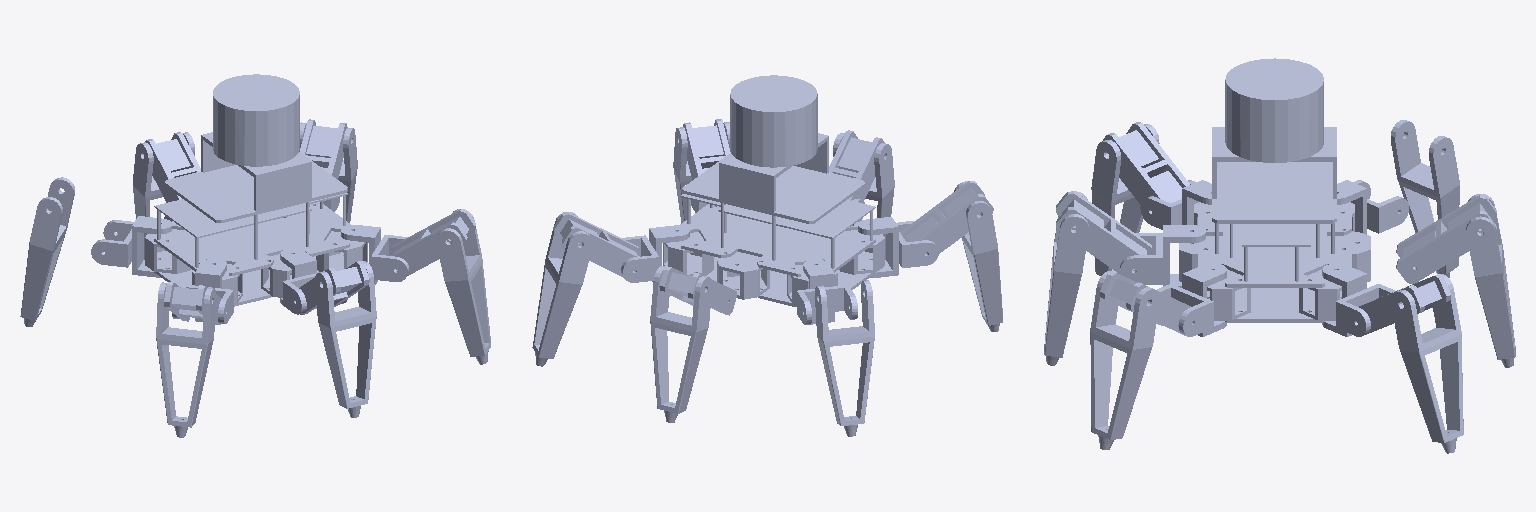
--- Facts derived from the render (not from the file) ---
The picture shows the robot from 3 angles, left to right: view 1: azimuth 30°, elevation 25°; view 2: azimuth 150°, elevation 25°; view 3: azimuth 270°, elevation 25°; orthographic projection.
Model hexa_last_ver_i_swear with 19 links and 18 joints (18 revolute), rooted at base_link, posed every joint at zero.
Links seen in each view (by area): view 1: base_link, tibia_3, tibia_1, tibia_6, tibia_5, coxa_6, femur_1, coxa_1, femur_4, femur_2, tibia_4, coxa_3 (+4 smaller); view 2: base_link, tibia_4, tibia_2, tibia_6, tibia_5, femur_5, coxa_5, coxa_6, femur_2, coxa_2, femur_3, femur_1 (+3 smaller); view 3: base_link, tibia_2, tibia_1, tibia_6, tibia_4, tibia_3, femur_4, femur_5, femur_3, tibia_5, coxa_2, coxa_1 (+5 smaller).
Link boxes in pixels (x1,y1,x2,y2): base_link: (145, 74, 367, 306); tibia_3: (315, 261, 376, 417); tibia_1: (436, 209, 490, 364); tibia_6: (20, 177, 74, 326); tibia_5: (156, 282, 215, 437); coxa_6: (91, 216, 171, 277); femur_1: (390, 209, 475, 275); coxa_1: (341, 225, 408, 284); femur_4: (145, 132, 200, 202); femur_2: (300, 119, 347, 179); tibia_4: (133, 132, 194, 259); coxa_3: (280, 248, 347, 314); base_link: (663, 75, 884, 306); tibia_4: (650, 266, 712, 422); tibia_2: (532, 212, 592, 366); tibia_6: (815, 280, 874, 436); tibia_5: (954, 181, 1002, 331); femur_5: (900, 181, 993, 253); coxa_5: (858, 217, 938, 277); coxa_6: (797, 259, 857, 324); femur_2: (553, 212, 640, 277); coxa_2: (621, 225, 689, 282); femur_3: (829, 130, 884, 200); femur_1: (683, 119, 730, 180); base_link: (1179, 58, 1370, 322); tibia_2: (1391, 274, 1463, 453); tibia_1: (1090, 271, 1159, 449); tibia_6: (1391, 120, 1459, 277); tibia_4: (1466, 194, 1515, 367); tibia_3: (1044, 191, 1088, 365); femur_4: (1396, 195, 1496, 283); femur_5: (1102, 122, 1189, 204); femur_3: (1056, 191, 1152, 273); tibia_5: (1091, 124, 1159, 275); coxa_2: (1322, 263, 1394, 336); coxa_1: (1157, 263, 1226, 336).
Bounding box of the posed robot: 0.4492 × 0.4892 × 0.3304 m (x, y, z).
17 mesh visuals loaded from 19 distinct referenced files (17 binary STL); not drawn: 2 (reference not matched to a file when rendering).

URDF robot description (hexa_last_ver_i_swear):
<?xml version="1.0" encoding="utf-8"?>
<!-- This URDF was automatically created by SolidWorks to URDF Exporter! Originally created by Stephen Brawner ([email redacted]) 
     Commit Version: 1.6.0-4-g7f85cfe  Build Version: 1.6.7995.38578
     For more information, please see http://wiki.ros.org/sw_urdf_exporter -->
<robot
  name="hexa_last_ver_i_swear">
  <link
    name="base_link">
    <inertial>
      <origin
        xyz="-0.000235954357342192 7.5432764818938E-06 0.1227178717292"
        rpy="0 0 0" />
      <mass
        value="1.21169978454244" />
      <inertia
        ixx="0.00915831944870311"
        ixy="-7.1052111963795E-07"
        ixz="-8.84150170670575E-06"
        iyy="0.00979644782668003"
        iyz="1.97028180144623E-07"
        izz="0.00428132557153675" />
    </inertial>
    <visual>
      <origin
        xyz="0 0 0"
        rpy="0 0 0" />
      <geometry>
        <mesh
          filename="package://hexa_last_ver_i_swear/meshes/base_link.STL" />
      </geometry>
      <material
        name="">
        <color
          rgba="0.792156862745098 0.819607843137255 0.929411764705882 1" />
      </material>
    </visual>
    <collision>
      <origin
        xyz="0 0 0"
        rpy="0 0 0" />
      <geometry>
        <mesh
          filename="package://hexa_last_ver_i_swear/meshes/base_link.STL" />
      </geometry>
    </collision>
  </link>
  <link
    name="coxa_1">
    <inertial>
      <origin
        xyz="0.0299971745393872 2.63709657195854E-06 0.022"
        rpy="0 0 0" />
      <mass
        value="0.0551210467328803" />
      <inertia
        ixx="3.53282132522675E-05"
        ixy="-4.36119640905399E-09"
        ixz="-1.55271915250144E-21"
        iyy="3.83050011945573E-05"
        iyz="-2.05291309065013E-21"
        izz="3.83009260758547E-05" />
    </inertial>
    <visual>
      <origin
        xyz="0 0 0"
        rpy="0 0 0" />
      <geometry>
        <mesh
          filename="package://hexa_last_ver_i_swear/meshes/coxa_1.STL" />
      </geometry>
      <material
        name="">
        <color
          rgba="0.792156862745098 0.819607843137255 0.933333333333333 1" />
      </material>
    </visual>
    <collision>
      <origin
        xyz="0 0 0"
        rpy="0 0 0" />
      <geometry>
        <mesh
          filename="package://hexa_last_ver_i_swear/meshes/coxa_1.STL" />
      </geometry>
    </collision>
  </link>
  <joint
    name="coxa_1_joint"
    type="revolute">
    <origin
      xyz="0.094347 -0.064347 0"
      rpy="0 0 -0.7854" />
    <parent
      link="base_link" />
    <child
      link="coxa_1" />
    <axis
      xyz="0 0 1" />
    <limit
      lower="0"
      upper="0"
      effort="0"
      velocity="0" />
  </joint>
  <link
    name="femur_1">
    <inertial>
      <origin
        xyz="0.0390038961416134 2.77555756156289E-17 -0.000127300882164495"
        rpy="0 0 0" />
      <mass
        value="0.101060221285622" />
      <inertia
        ixx="2.70779732387671E-05"
        ixy="-8.89384594617015E-20"
        ixz="7.62790212769359E-09"
        iyy="0.000113343849974385"
        iyz="1.97805872036324E-20"
        izz="9.72264920104687E-05" />
    </inertial>
    <visual>
      <origin
        xyz="0 0 0"
        rpy="0 0 0" />
      <geometry>
        <mesh
          filename="package://hexa_last_ver_i_swear/meshes/femur_1.STL" />
      </geometry>
      <material
        name="">
        <color
          rgba="0.792156862745098 0.819607843137255 0.933333333333333 1" />
      </material>
    </visual>
    <collision>
      <origin
        xyz="0 0 0"
        rpy="0 0 0" />
      <geometry>
        <mesh
          filename="package://hexa_last_ver_i_swear/meshes/femur_1.STL" />
      </geometry>
    </collision>
  </link>
  <joint
    name="femur_1_joint"
    type="revolute">
    <origin
      xyz="0.06 0 0.022"
      rpy="1.5708 -0.60765 0" />
    <parent
      link="coxa_1" />
    <child
      link="femur_1" />
    <axis
      xyz="0 0 1" />
    <limit
      lower="0"
      upper="0"
      effort="0"
      velocity="0" />
  </joint>
  <link
    name="tibia_1">
    <inertial>
      <origin
        xyz="0.0647793877370392 1.67357076114039E-07 4.11404578147534E-08"
        rpy="0 0 0" />
      <mass
        value="0.079753578257712" />
      <inertia
        ixx="4.29473134297159E-05"
        ixy="-5.47973506953978E-10"
        ixz="1.27952682207062E-10"
        iyy="0.000201360752347867"
        iyz="-5.78595613011558E-11"
        izz="0.000168424442883887" />
    </inertial>
    <visual>
      <origin
        xyz="0 0 0"
        rpy="0 0 0" />
      <geometry>
        <mesh
          filename="package://hexa_last_ver_i_swear/meshes/tibia_1.STL" />
      </geometry>
      <material
        name="">
        <color
          rgba="0.792156862745098 0.819607843137255 0.933333333333333 1" />
      </material>
    </visual>
    <collision>
      <origin
        xyz="0 0 0"
        rpy="0 0 0" />
      <geometry>
        <mesh
          filename="package://hexa_last_ver_i_swear/meshes/tibia_1.STL" />
      </geometry>
    </collision>
  </link>
  <joint
    name="tibia_1_joint"
    type="revolute">
    <origin
      xyz="0.078299 0 0"
      rpy="0 0 -1.9765" />
    <parent
      link="femur_1" />
    <child
      link="tibia_1" />
    <axis
      xyz="0 0 1" />
    <limit
      lower="0"
      upper="0"
      effort="0"
      velocity="0" />
  </joint>
  <link
    name="coxa_3">
    <inertial>
      <origin
        xyz="0.0299971745393872 2.63709657192536E-06 0.022"
        rpy="0 0 0" />
      <mass
        value="0.0551210467328803" />
      <inertia
        ixx="3.53282132522675E-05"
        ixy="-4.36119640902418E-09"
        ixz="3.90477967527937E-22"
        iyy="3.83050011945573E-05"
        iyz="1.21828494571067E-22"
        izz="3.83009260758546E-05" />
    </inertial>
    <visual>
      <origin
        xyz="0 0 0"
        rpy="0 0 0" />
      <geometry>
        <mesh
          filename="package://hexa_last_ver_i_swear/meshes/coxa_3.STL" />
      </geometry>
      <material
        name="">
        <color
          rgba="0.792156862745098 0.819607843137255 0.933333333333333 1" />
      </material>
    </visual>
    <collision>
      <origin
        xyz="0 0 0"
        rpy="0 0 0" />
      <geometry>
        <mesh
          filename="package://hexa_last_ver_i_swear/meshes/coxa_3.STL" />
      </geometry>
    </collision>
  </link>
  <joint
    name="coxa_3_joint"
    type="revolute">
    <origin
      xyz="0 -0.086 0"
      rpy="0 0 -1.5708" />
    <parent
      link="base_link" />
    <child
      link="coxa_3" />
    <axis
      xyz="0 0 1" />
    <limit
      lower="0"
      upper="0"
      effort="0"
      velocity="0" />
  </joint>
  <link
    name="femur_3">
    <inertial>
      <origin
        xyz="-0.0389961038583868 2.77555756156289E-16 -0.000127300882164621"
        rpy="0 0 0" />
      <mass
        value="0.101060221285622" />
      <inertia
        ixx="2.70779732387671E-05"
        ixy="-5.33630756770209E-20"
        ixz="7.62790212764186E-09"
        iyy="0.000113343849974385"
        iyz="-2.58075379411868E-21"
        izz="9.72264920104688E-05" />
    </inertial>
    <visual>
      <origin
        xyz="0 0 0"
        rpy="0 0 0" />
      <geometry>
        <mesh
          filename="package://hexa_last_ver_i_swear/meshes/femur_3.STL" />
      </geometry>
      <material
        name="">
        <color
          rgba="0.792156862745098 0.819607843137255 0.933333333333333 1" />
      </material>
    </visual>
    <collision>
      <origin
        xyz="0 0 0"
        rpy="0 0 0" />
      <geometry>
        <mesh
          filename="package://hexa_last_ver_i_swear/meshes/femur_3.STL" />
      </geometry>
    </collision>
  </link>
  <joint
    name="femur_3_joint"
    type="revolute">
    <origin
      xyz="0.06 0 0.022"
      rpy="1.5708 0.65437 -3.1416" />
    <parent
      link="coxa_3" />
    <child
      link="femur_3" />
    <axis
      xyz="0 0 1" />
    <limit
      lower="0"
      upper="0"
      effort="0"
      velocity="0" />
  </joint>
  <link
    name="tibia_3">
    <inertial>
      <origin
        xyz="0.0647793402516186 1.63043285095199E-07 0.000500038719800596"
        rpy="0 0 0" />
      <mass
        value="0.0797534321360177" />
      <inertia
        ixx="4.29472906774755E-05"
        ixy="-4.35624446704931E-10"
        ixz="1.25207647799621E-10"
        iyy="0.000201360533986022"
        iyz="-6.29881027864269E-11"
        izz="0.000168424318950458" />
    </inertial>
    <visual>
      <origin
        xyz="0 0 0"
        rpy="0 0 0" />
      <geometry>
        <mesh
          filename="package://hexa_last_ver_i_swear/meshes/tibia_3.STL" />
      </geometry>
      <material
        name="">
        <color
          rgba="0.792156862745098 0.819607843137255 0.933333333333333 1" />
      </material>
    </visual>
    <collision>
      <origin
        xyz="0 0 0"
        rpy="0 0 0" />
      <geometry>
        <mesh
          filename="package://hexa_last_ver_i_swear/meshes/tibia_3.STL" />
      </geometry>
    </collision>
  </link>
  <joint
    name="tibia_3_joint"
    type="revolute">
    <origin
      xyz="-0.078 0 0"
      rpy="3.1416 0 -1.0584" />
    <parent
      link="femur_3" />
    <child
      link="tibia_3" />
    <axis
      xyz="0 0 1" />
    <limit
      lower="0"
      upper="0"
      effort="0"
      velocity="0" />
  </joint>
  <link
    name="coxa_5">
    <inertial>
      <origin
        xyz="0.0299971745393872 2.63709657191691E-06 0.022"
        rpy="0 0 0" />
      <mass
        value="0.0551210467328803" />
      <inertia
        ixx="3.53282132522675E-05"
        ixy="-4.36119640903196E-09"
        ixz="9.49349879329603E-22"
        iyy="3.83050011945573E-05"
        iyz="-2.09182526603576E-21"
        izz="3.83009260758547E-05" />
    </inertial>
    <visual>
      <origin
        xyz="0 0 0"
        rpy="0 0 0" />
      <geometry>
        <mesh
          filename="package://hexa_last_ver_i_swear/meshes/coxa_5.STL" />
      </geometry>
      <material
        name="">
        <color
          rgba="0.792156862745098 0.819607843137255 0.933333333333333 1" />
      </material>
    </visual>
    <collision>
      <origin
        xyz="0 0 0"
        rpy="0 0 0" />
      <geometry>
        <mesh
          filename="package://hexa_last_ver_i_swear/meshes/coxa_5.STL" />
      </geometry>
    </collision>
  </link>
  <joint
    name="coxa_5_joint"
    type="revolute">
    <origin
      xyz="-0.094347 -0.064347 0"
      rpy="0 0 -2.3562" />
    <parent
      link="base_link" />
    <child
      link="coxa_5" />
    <axis
      xyz="0 0 1" />
    <limit
      lower="0"
      upper="0"
      effort="0"
      velocity="0" />
  </joint>
  <link
    name="femur_5">
    <inertial>
      <origin
        xyz="-0.0389961038583868 2.63677968348475E-16 0.000372699117835631"
        rpy="0 0 0" />
      <mass
        value="0.101060221285622" />
      <inertia
        ixx="2.70779732387672E-05"
        ixy="-3.89635155736978E-20"
        ixz="7.62790212769673E-09"
        iyy="0.000113343849974385"
        iyz="-1.00933501008031E-20"
        izz="9.72264920104688E-05" />
    </inertial>
    <visual>
      <origin
        xyz="0 0 0"
        rpy="0 0 0" />
      <geometry>
        <mesh
          filename="package://hexa_last_ver_i_swear/meshes/femur_5.STL" />
      </geometry>
      <material
        name="">
        <color
          rgba="0.792156862745098 0.819607843137255 0.933333333333333 1" />
      </material>
    </visual>
    <collision>
      <origin
        xyz="0 0 0"
        rpy="0 0 0" />
      <geometry>
        <mesh
          filename="package://hexa_last_ver_i_swear/meshes/femur_5.STL" />
      </geometry>
    </collision>
  </link>
  <joint
    name="femur_5_joint"
    type="revolute">
    <origin
      xyz="0.06 0 0.022"
      rpy="1.5708 0.59326 -3.1416" />
    <parent
      link="coxa_5" />
    <child
      link="femur_5" />
    <axis
      xyz="0 0 1" />
    <limit
      lower="0"
      upper="0"
      effort="0"
      velocity="0" />
  </joint>
  <link
    name="tibia_5">
    <inertial>
      <origin
        xyz="0.064779381457328 1.66896180764375E-07 3.80265846762484E-08"
        rpy="0 0 0" />
      <mass
        value="0.0797535514364952" />
      <inertia
        ixx="4.29473122557609E-05"
        ixy="-5.2039318251951E-10"
        ixz="1.2934666126771E-10"
        iyy="0.000201360728465127"
        iyz="-5.89853202898421E-11"
        izz="0.000168424442624692" />
    </inertial>
    <visual>
      <origin
        xyz="0 0 0"
        rpy="0 0 0" />
      <geometry>
        <mesh
          filename="package://hexa_last_ver_i_swear/meshes/tibia_5.STL" />
      </geometry>
      <material
        name="">
        <color
          rgba="0.792156862745098 0.819607843137255 0.933333333333333 1" />
      </material>
    </visual>
    <collision>
      <origin
        xyz="0 0 0"
        rpy="0 0 0" />
      <geometry>
        <mesh
          filename="package://hexa_last_ver_i_swear/meshes/tibia_5.STL" />
      </geometry>
    </collision>
  </link>
  <joint
    name="tibia_5_joint"
    type="revolute">
    <origin
      xyz="-0.078 0 0"
      rpy="-3.1416 0 -1.1353" />
    <parent
      link="femur_5" />
    <child
      link="tibia_5" />
    <axis
      xyz="0 0 1" />
    <limit
      lower="0"
      upper="0"
      effort="0"
      velocity="0" />
  </joint>
  <link
    name="coxa_2">
    <inertial>
      <origin
        xyz="0.0299971745393872 2.63709657193772E-06 0.022"
        rpy="0 0 0" />
      <mass
        value="0.0551210467328803" />
      <inertia
        ixx="3.53282132522675E-05"
        ixy="-4.3611964090218E-09"
        ixz="8.81059334345057E-21"
        iyy="3.83050011945573E-05"
        iyz="-4.92950676674719E-21"
        izz="3.83009260758546E-05" />
    </inertial>
    <visual>
      <origin
        xyz="0 0 0"
        rpy="0 0 0" />
      <geometry>
        <mesh
          filename="package://hexa_last_ver_i_swear/meshes/coxa_2.STL" />
      </geometry>
      <material
        name="">
        <color
          rgba="0.792156862745098 0.819607843137255 0.933333333333333 1" />
      </material>
    </visual>
    <collision>
      <origin
        xyz="0 0 0"
        rpy="0 0 0" />
      <geometry>
        <mesh
          filename="package://hexa_last_ver_i_swear/meshes/coxa_2.STL" />
      </geometry>
    </collision>
  </link>
  <joint
    name="coxa_2_joint"
    type="revolute">
    <origin
      xyz="0.094347 0.064347 0"
      rpy="0 0 0.7854" />
    <parent
      link="base_link" />
    <child
      link="coxa_2" />
    <axis
      xyz="0 0 1" />
    <limit
      lower="0"
      upper="0"
      effort="0"
      velocity="0" />
  </joint>
  <link
    name="femur_2">
    <inertial>
      <origin
        xyz="0.0390038961416136 2.22044604925031E-16 0.000372699117835738"
        rpy="0 0 0" />
      <mass
        value="0.101060221285622" />
      <inertia
        ixx="2.70779732387671E-05"
        ixy="1.94817577868489E-20"
        ixz="7.62790212765604E-09"
        iyy="0.000113343849974385"
        iyz="-7.75657963482918E-21"
        izz="9.72264920104688E-05" />
    </inertial>
    <visual>
      <origin
        xyz="0 0 0"
        rpy="0 0 0" />
      <geometry>
        <mesh
          filename="package://hexa_last_ver_i_swear/meshes/femur_2.STL" />
      </geometry>
      <material
        name="">
        <color
          rgba="0.792156862745098 0.819607843137255 0.933333333333333 1" />
      </material>
    </visual>
    <collision>
      <origin
        xyz="0 0 0"
        rpy="0 0 0" />
      <geometry>
        <mesh
          filename="package://hexa_last_ver_i_swear/meshes/femur_2.STL" />
      </geometry>
    </collision>
  </link>
  <joint
    name="femur_2_joint"
    type="revolute">
    <origin
      xyz="0.06 0 0.022"
      rpy="-1.5708 -0.57076 0" />
    <parent
      link="coxa_2" />
    <child
      link="femur_2" />
    <axis
      xyz="0 0 1" />
    <limit
      lower="0"
      upper="0"
      effort="0"
      velocity="0" />
  </joint>
  <link
    name="tibia_2">
    <inertial>
      <origin
        xyz="0.064779231371056 1.52274239939576E-07 2.12012769632008E-08"
        rpy="0 0 0" />
      <mass
        value="0.0797532028820055" />
      <inertia
        ixx="4.29472740175955E-05"
        ixy="-2.2659872412311E-10"
        ixz="1.75883824017712E-10"
        iyy="0.000201359999099"
        iyz="-5.69751259824872E-11"
        izz="0.00016842391204068" />
    </inertial>
    <visual>
      <origin
        xyz="0 0 0"
        rpy="0 0 0" />
      <geometry>
        <mesh
          filename="package://hexa_last_ver_i_swear/meshes/tibia_2.STL" />
      </geometry>
      <material
        name="">
        <color
          rgba="0.792156862745098 0.819607843137255 0.933333333333333 1" />
      </material>
    </visual>
    <collision>
      <origin
        xyz="0 0 0"
        rpy="0 0 0" />
      <geometry>
        <mesh
          filename="package://hexa_last_ver_i_swear/meshes/tibia_2.STL" />
      </geometry>
    </collision>
  </link>
  <joint
    name="tibia_2_joint"
    type="revolute">
    <origin
      xyz="0.078299 0 0"
      rpy="0 0 1.8965" />
    <parent
      link="femur_2" />
    <child
      link="tibia_2" />
    <axis
      xyz="0 0 1" />
    <limit
      lower="0"
      upper="0"
      effort="0"
      velocity="0" />
  </joint>
  <link
    name="coxa_4">
    <inertial>
      <origin
        xyz="0.0299971745393872 2.63709657194071E-06 0.022"
        rpy="0 0 0" />
      <mass
        value="0.0551210467328803" />
      <inertia
        ixx="3.53282132522675E-05"
        ixy="-4.36119640900866E-09"
        ixz="-5.5724425287956E-21"
        iyy="3.83050011945573E-05"
        iyz="5.74553126754583E-22"
        izz="3.83009260758547E-05" />
    </inertial>
    <visual>
      <origin
        xyz="0 0 0"
        rpy="0 0 0" />
      <geometry>
        <mesh
          filename="package://hexa_last_ver_i_swear/meshes/coxa_4.STL" />
      </geometry>
      <material
        name="">
        <color
          rgba="0.792156862745098 0.819607843137255 0.933333333333333 1" />
      </material>
    </visual>
    <collision>
      <origin
        xyz="0 0 0"
        rpy="0 0 0" />
      <geometry>
        <mesh
          filename="package://hexa_last_ver_i_swear/meshes/coxa_4.STL" />
      </geometry>
    </collision>
  </link>
  <joint
    name="coxa_4_joint"
    type="revolute">
    <origin
      xyz="0 0.086 0"
      rpy="0 0 1.5708" />
    <parent
      link="base_link" />
    <child
      link="coxa_4" />
    <axis
      xyz="0 0 1" />
    <limit
      lower="0"
      upper="0"
      effort="0"
      velocity="0" />
  </joint>
  <link
    name="femur_4">
    <inertial>
      <origin
        xyz="-0.0389961038583868 6.93889390390723E-18 0.000372699117835451"
        rpy="0 0 0" />
      <mass
        value="0.101060221285622" />
      <inertia
        ixx="2.70779732387671E-05"
        ixy="-5.9292306307801E-20"
        ixz="7.62790212765125E-09"
        iyy="0.000113343849974385"
        iyz="-8.20455604477386E-22"
        izz="9.72264920104686E-05" />
    </inertial>
    <visual>
      <origin
        xyz="0 0 0"
        rpy="0 0 0" />
      <geometry>
        <mesh
          filename="package://hexa_last_ver_i_swear/meshes/femur_4.STL" />
      </geometry>
      <material
        name="">
        <color
          rgba="0.792156862745098 0.819607843137255 0.933333333333333 1" />
      </material>
    </visual>
    <collision>
      <origin
        xyz="0 0 0"
        rpy="0 0 0" />
      <geometry>
        <mesh
          filename="package://hexa_last_ver_i_swear/meshes/femur_4.STL" />
      </geometry>
    </collision>
  </link>
  <joint
    name="femur_4_joint"
    type="revolute">
    <origin
      xyz="0.06 0 0.022"
      rpy="1.5708 0.58376 -3.1416" />
    <parent
      link="coxa_4" />
    <child
      link="femur_4" />
    <axis
      xyz="0 0 1" />
    <limit
      lower="0"
      upper="0"
      effort="0"
      velocity="0" />
  </joint>
  <link
    name="tibia_4">
    <inertial>
      <origin
        xyz="0.0647793120469972 1.611279220326E-07 3.42567992672011E-08"
        rpy="0 0 0" />
      <mass
        value="0.07975336132891" />
      <inertia
        ixx="4.29472859486317E-05"
        ixy="-3.70486815925145E-10"
        ixz="1.35541564551716E-10"
        iyy="0.000201360398778229"
        iyz="-6.22672928709645E-11"
        izz="0.000168424231028227" />
    </inertial>
    <visual>
      <origin
        xyz="0 0 0"
        rpy="0 0 0" />
      <geometry>
        <mesh
          filename="package://hexa_last_ver_i_swear/meshes/tibia_4.STL" />
      </geometry>
      <material
        name="">
        <color
          rgba="0.792156862745098 0.819607843137255 0.933333333333333 1" />
      </material>
    </visual>
    <collision>
      <origin
        xyz="0 0 0"
        rpy="0 0 0" />
      <geometry>
        <mesh
          filename="package://hexa_last_ver_i_swear/meshes/tibia_4.STL" />
      </geometry>
    </collision>
  </link>
  <joint
    name="tibia_4_joint"
    type="revolute">
    <origin
      xyz="-0.081164 0 0"
      rpy="0 0 -1.1616" />
    <parent
      link="femur_4" />
    <child
      link="tibia_4" />
    <axis
      xyz="0 0 1" />
    <limit
      lower="0"
      upper="0"
      effort="0"
      velocity="0" />
  </joint>
  <link
    name="coxa_6">
    <inertial>
      <origin
        xyz="0.0299971745393872 2.63709657190303E-06 0.022"
        rpy="0 0 0" />
      <mass
        value="0.0551210467328803" />
      <inertia
        ixx="3.53282132522675E-05"
        ixy="-4.36119640898961E-09"
        ixz="-1.11907764682274E-21"
        iyy="3.83050011945573E-05"
        iyz="-1.36376804916686E-21"
        izz="3.83009260758547E-05" />
    </inertial>
    <visual>
      <origin
        xyz="0 0 0"
        rpy="0 0 0" />
      <geometry>
        <mesh
          filename="package://hexa_last_ver_i_swear/meshes/coxa_6.STL" />
      </geometry>
      <material
        name="">
        <color
          rgba="0.792156862745098 0.819607843137255 0.933333333333333 1" />
      </material>
    </visual>
    <collision>
      <origin
        xyz="0 0 0"
        rpy="0 0 0" />
      <geometry>
        <mesh
          filename="package://hexa_last_ver_i_swear/meshes/coxa_6.STL" />
      </geometry>
    </collision>
  </link>
  <joint
    name="coxa_6_joint"
    type="revolute">
    <origin
      xyz="-0.094347 0.064347 0"
      rpy="0 0 2.3562" />
    <parent
      link="base_link" />
    <child
      link="coxa_6" />
    <axis
      xyz="0 0 1" />
    <limit
      lower="0"
      upper="0"
      effort="0"
      velocity="0" />
  </joint>
  <link
    name="femur_6">
    <inertial>
      <origin
        xyz="-0.0389961038583869 3.46944695195361E-16 0.00037269911783694"
        rpy="0 0 0" />
      <mass
        value="0.101060221285622" />
      <inertia
        ixx="2.70779732387671E-05"
        ixy="6.09863722023096E-20"
        ixz="7.62790212765522E-09"
        iyy="0.000113343849974385"
        iyz="-1.14391904525344E-21"
        izz="9.72264920104687E-05" />
    </inertial>
    <visual>
      <origin
        xyz="0 0 0"
        rpy="0 0 0" />
      <geometry>
        <mesh
          filename="package://hexa_last_ver_i_swear/meshes/femur_6.STL" />
      </geometry>
      <material
        name="">
        <color
          rgba="0.792156862745098 0.819607843137255 0.933333333333333 1" />
      </material>
    </visual>
    <collision>
      <origin
        xyz="0 0 0"
        rpy="0 0 0" />
      <geometry>
        <mesh
          filename="package://hexa_last_ver_i_swear/meshes/femur_6.STL" />
      </geometry>
    </collision>
  </link>
  <joint
    name="femur_6_joint"
    type="revolute">
    <origin
      xyz="0.06 0 0.022"
      rpy="1.5708 0.6261 -3.1416" />
    <parent
      link="coxa_6" />
    <child
      link="femur_6" />
    <axis
      xyz="0 0 1" />
    <limit
      lower="0"
      upper="0"
      effort="0"
      velocity="0" />
  </joint>
  <link
    name="tibia_6">
    <inertial>
      <origin
        xyz="0.0647792452262229 1.53521399037793E-07 0.00050002469269308"
        rpy="0 0 0" />
      <mass
        value="0.0797532266116497" />
      <inertia
        ixx="4.29472765643027E-05"
        ixy="-2.4511138159032E-10"
        ixz="1.64681151053905E-10"
        iyy="0.000201360069597061"
        iyz="-5.8558763893337E-11"
        izz="0.000168423974316692" />
    </inertial>
    <visual>
      <origin
        xyz="0 0 0"
        rpy="0 0 0" />
      <geometry>
        <mesh
          filename="package://hexa_last_ver_i_swear/meshes/tibia_6.STL" />
      </geometry>
      <material
        name="">
        <color
          rgba="0.792156862745098 0.819607843137255 0.933333333333333 1" />
      </material>
    </visual>
    <collision>
      <origin
        xyz="0 0 0"
        rpy="0 0 0" />
      <geometry>
        <mesh
          filename="package://hexa_last_ver_i_swear/meshes/tibia_6.STL" />
      </geometry>
    </collision>
  </link>
  <joint
    name="tibia_6_joint"
    type="revolute">
    <origin
      xyz="-0.081164 0 0"
      rpy="0 0 -1.1426" />
    <parent
      link="femur_6" />
    <child
      link="tibia_6" />
    <axis
      xyz="0 0 1" />
    <limit
      lower="0"
      upper="0"
      effort="0"
      velocity="0" />
  </joint>
</robot>
